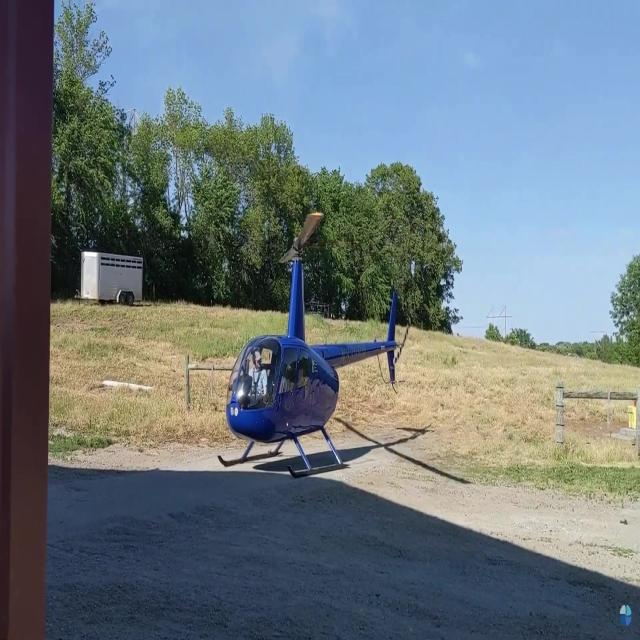CIV_HELO: (217, 234, 400, 480)
